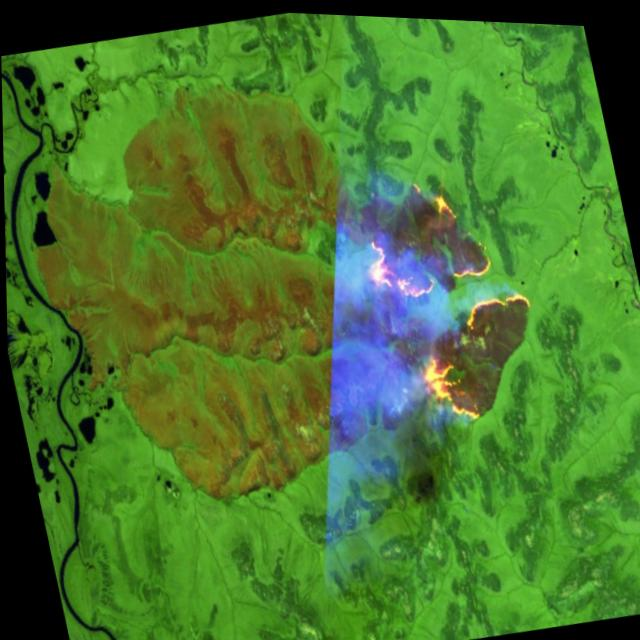fire: (345, 152, 554, 437)
